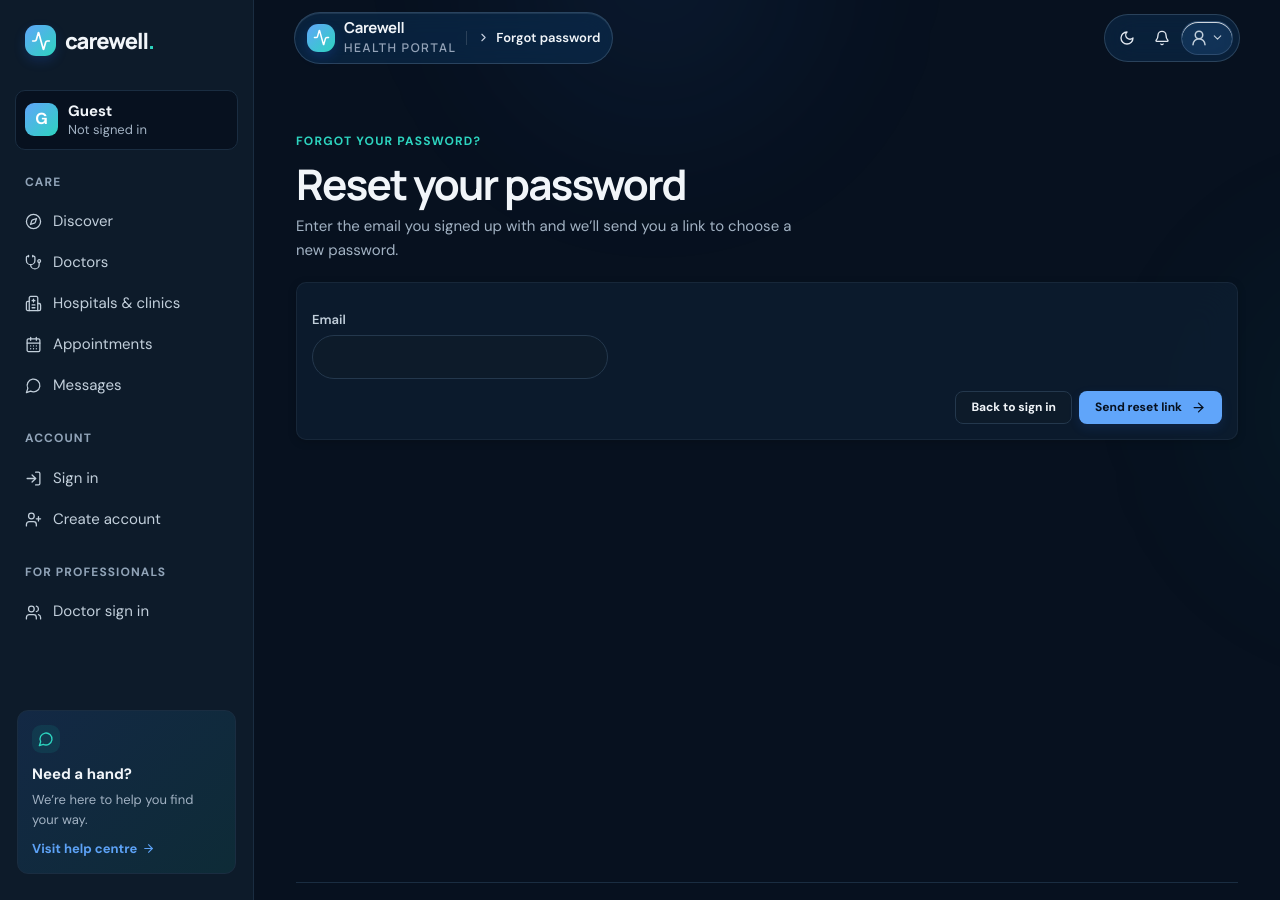
it: forgot password screens › validates the email before sending
The width and height of the screenshot is (1280, 900).
Type "nope" into the field labelled "Email" at point(460, 357), box x1=312 y1=335 x2=608 y2=379
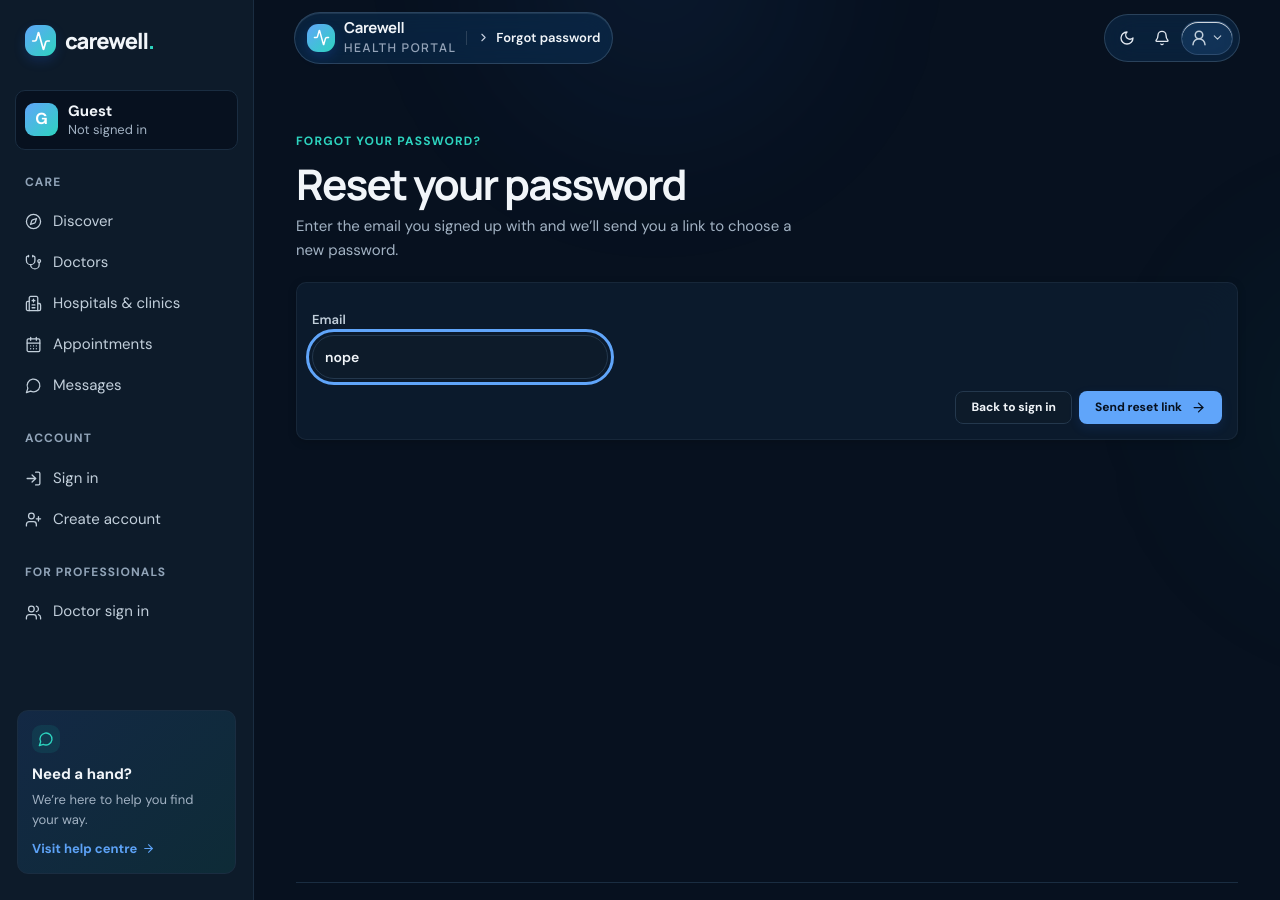
Click the button "Send reset link" at point(1150, 408), box x1=1079 y1=391 x2=1222 y2=424
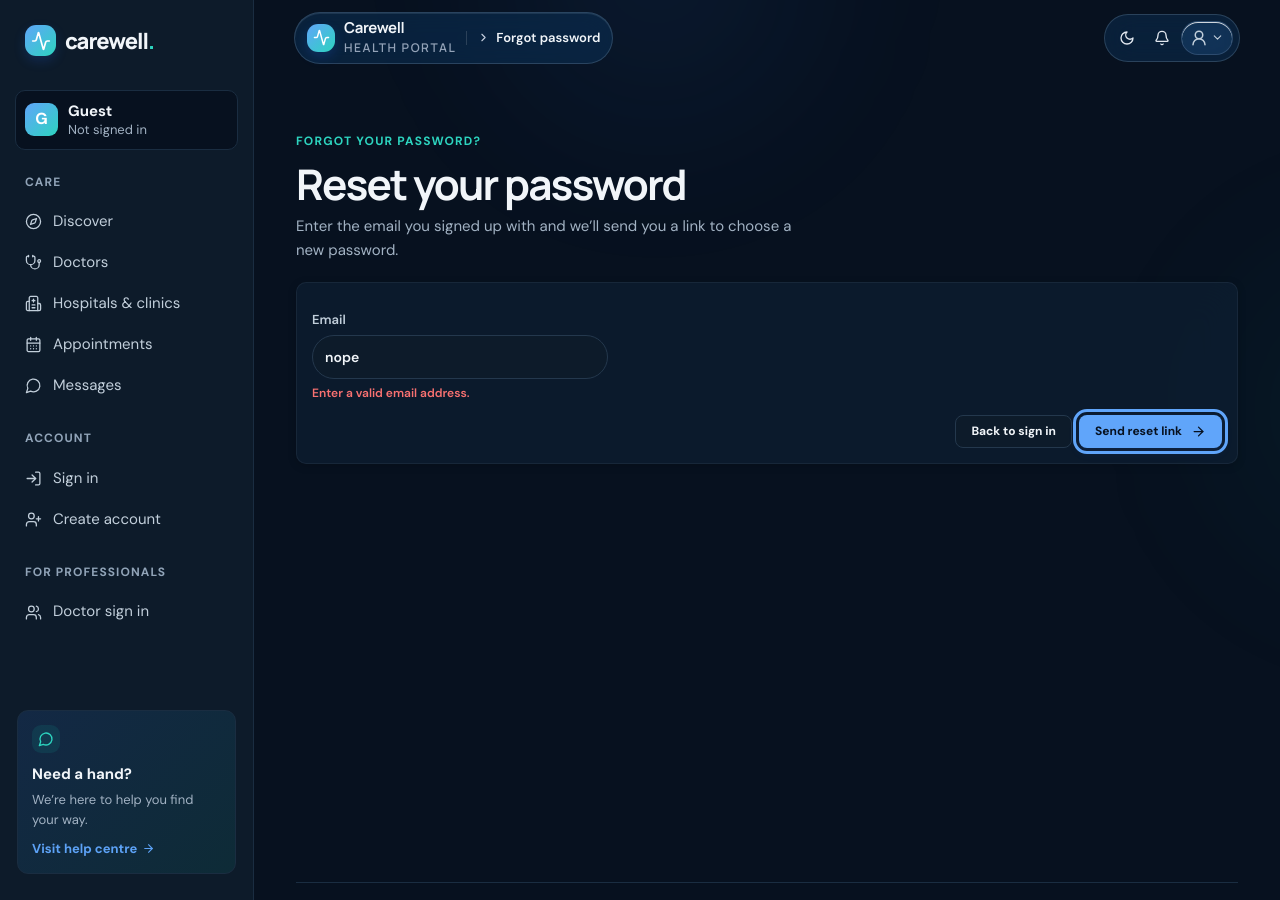
Now the text "Enter a valid email address." is shown, box x1=312 y1=385 x2=470 y2=401
